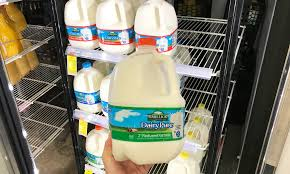milk: (111, 40, 187, 163), (136, 1, 178, 53), (96, 1, 133, 55), (59, 1, 97, 50), (75, 62, 102, 113), (87, 126, 105, 166), (177, 152, 197, 171)
